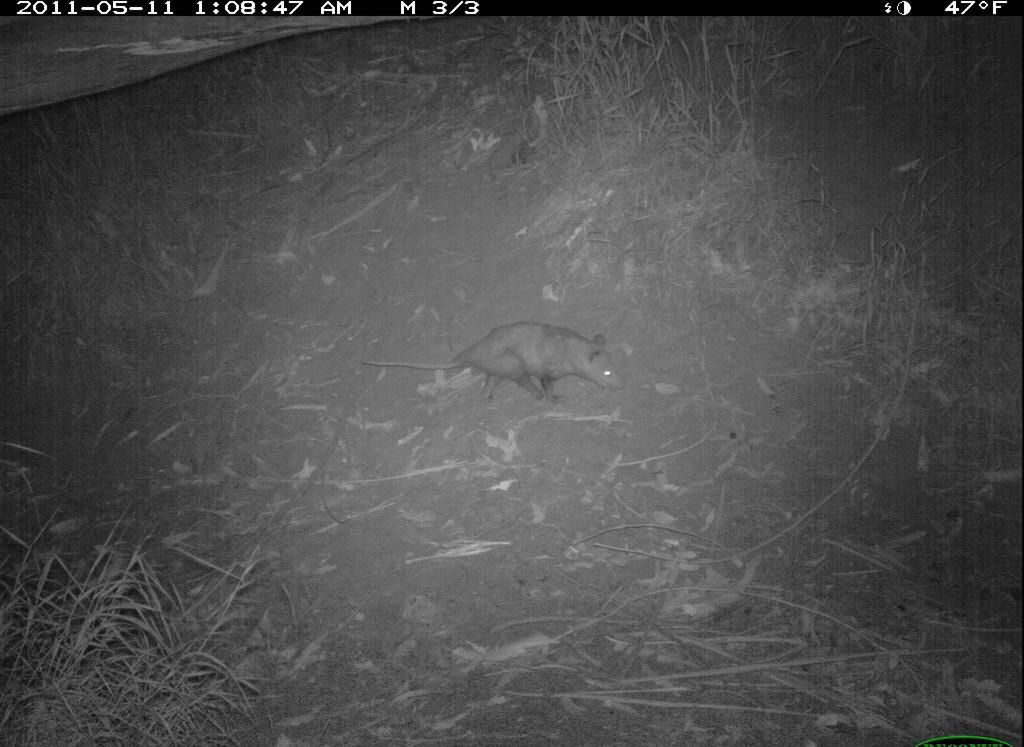opossum: (356, 314, 635, 411)
